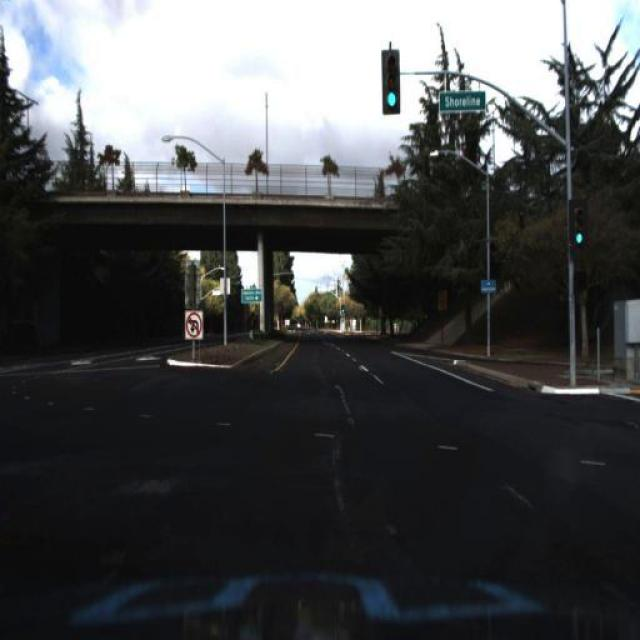semaforo: (382, 50, 401, 114), (569, 200, 587, 254)
